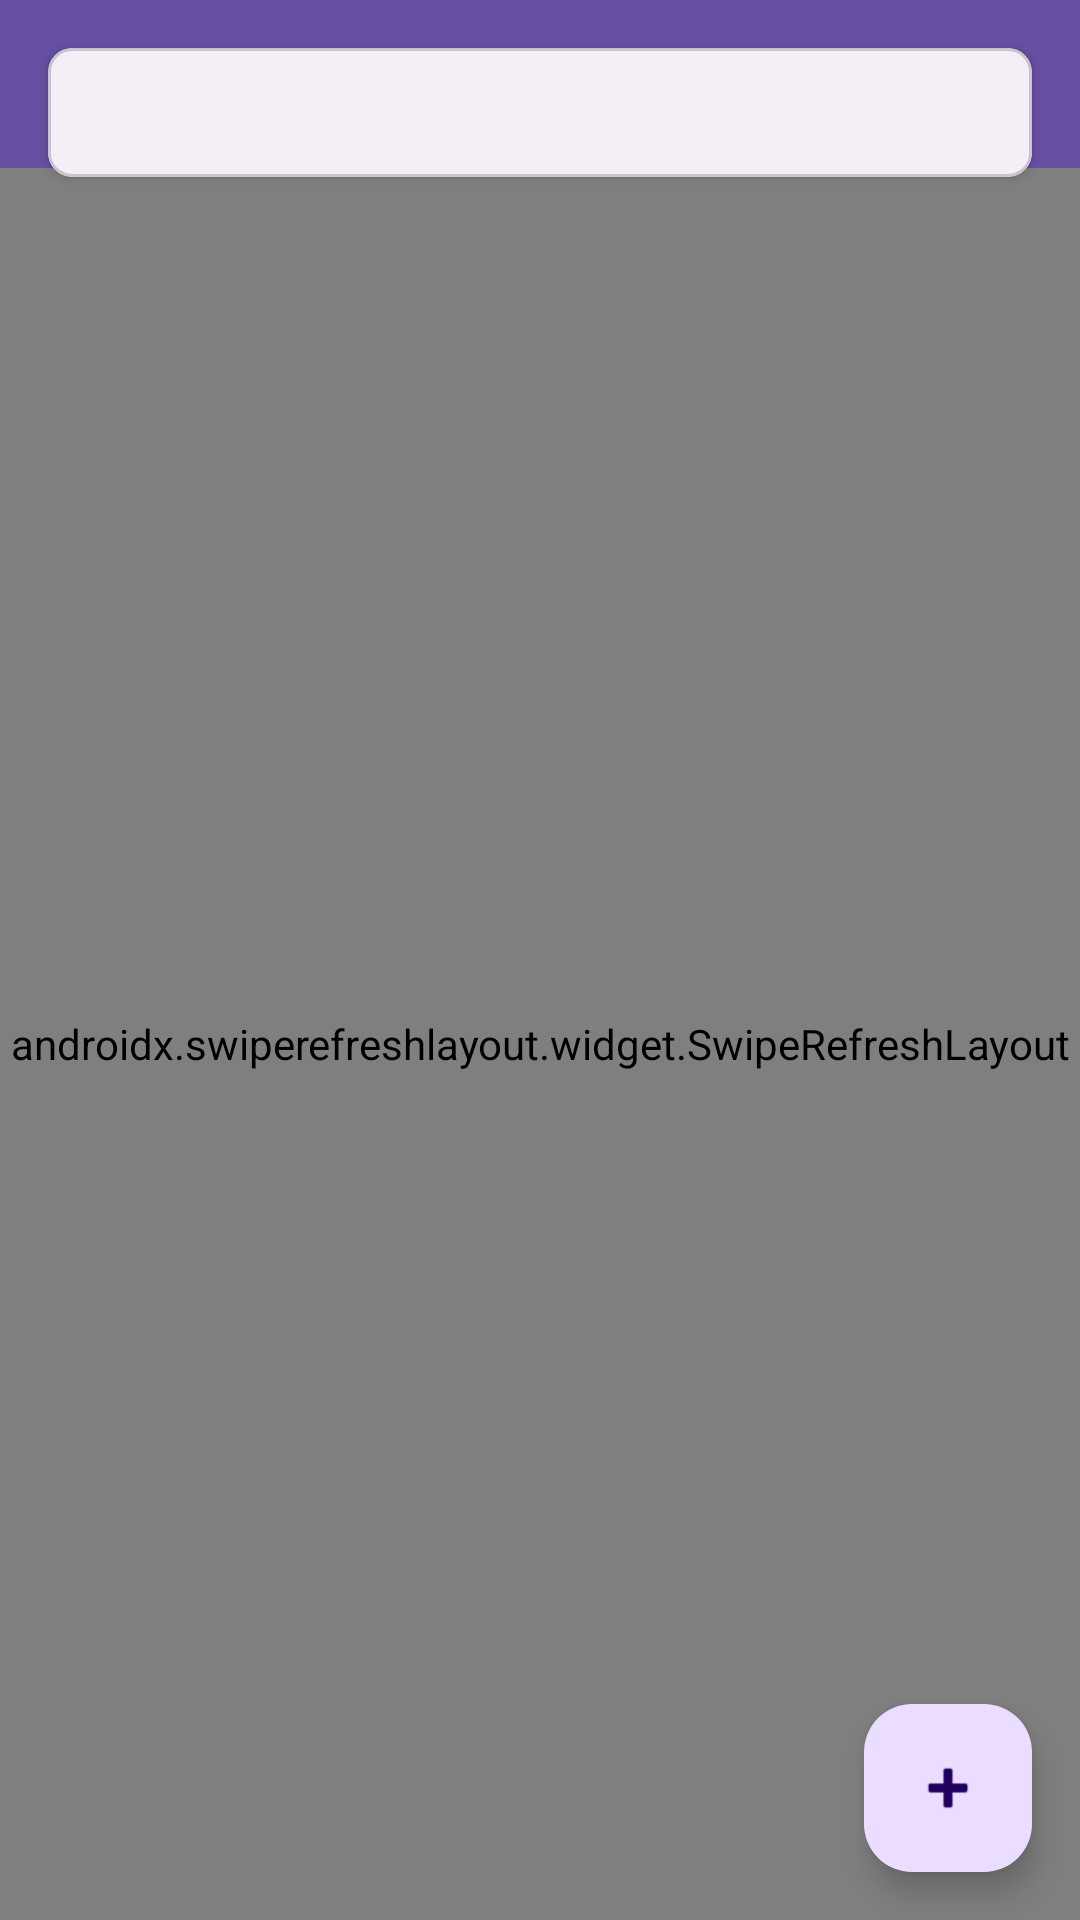

Icons on this 1080px x 1920px Android screen, each with its box as (x1, y1, x2, y2):
Add Note: (864, 1704, 1032, 1872)
